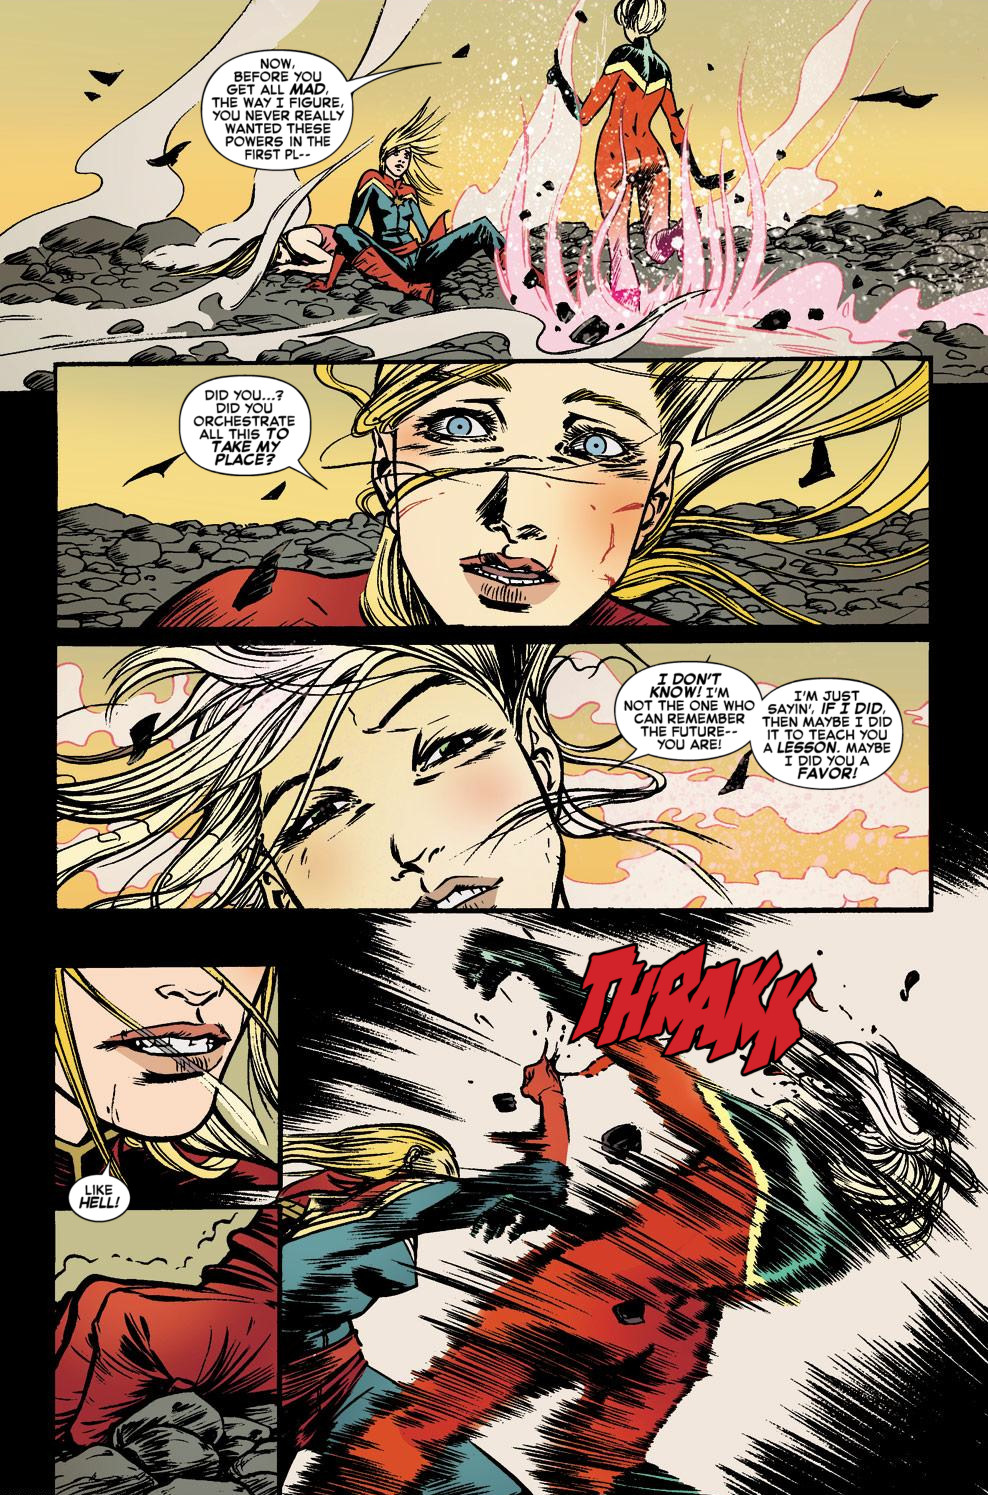Baloon: (615, 662, 899, 784), (204, 50, 438, 170), (183, 377, 326, 493), (63, 1168, 133, 1225)
Vignetta: (50, 797, 985, 1495), (4, 1, 987, 392), (54, 645, 933, 911), (58, 368, 933, 627), (51, 1206, 279, 1489), (44, 965, 273, 1209)
